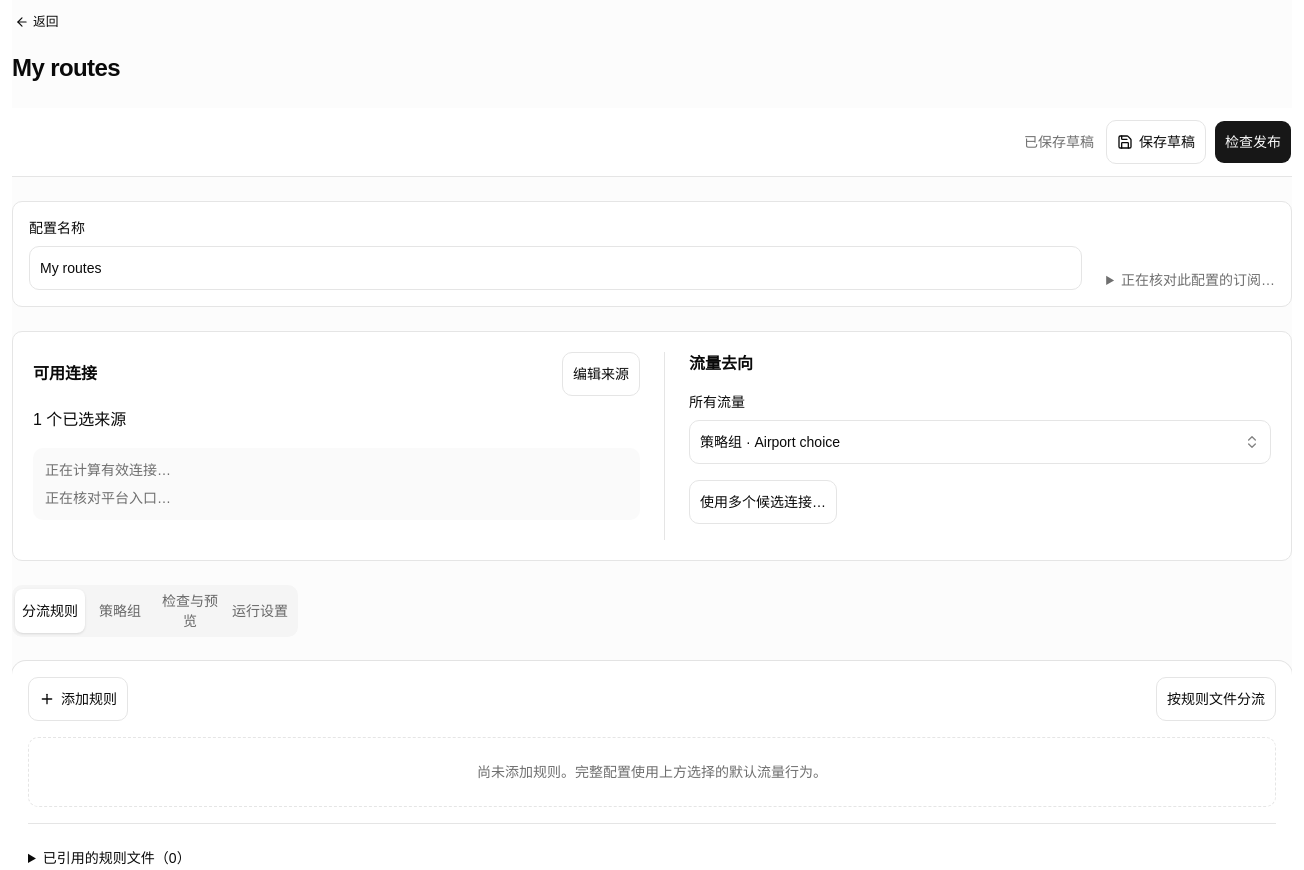
Test: clearing the last condition keeps automatic membership enabled rather than silently removing members
The image size is (1304, 870).
Step 1. Press the mouse on the tab "策略组" → (120, 611), box 85,589 -> 155,633
(page scrolled)
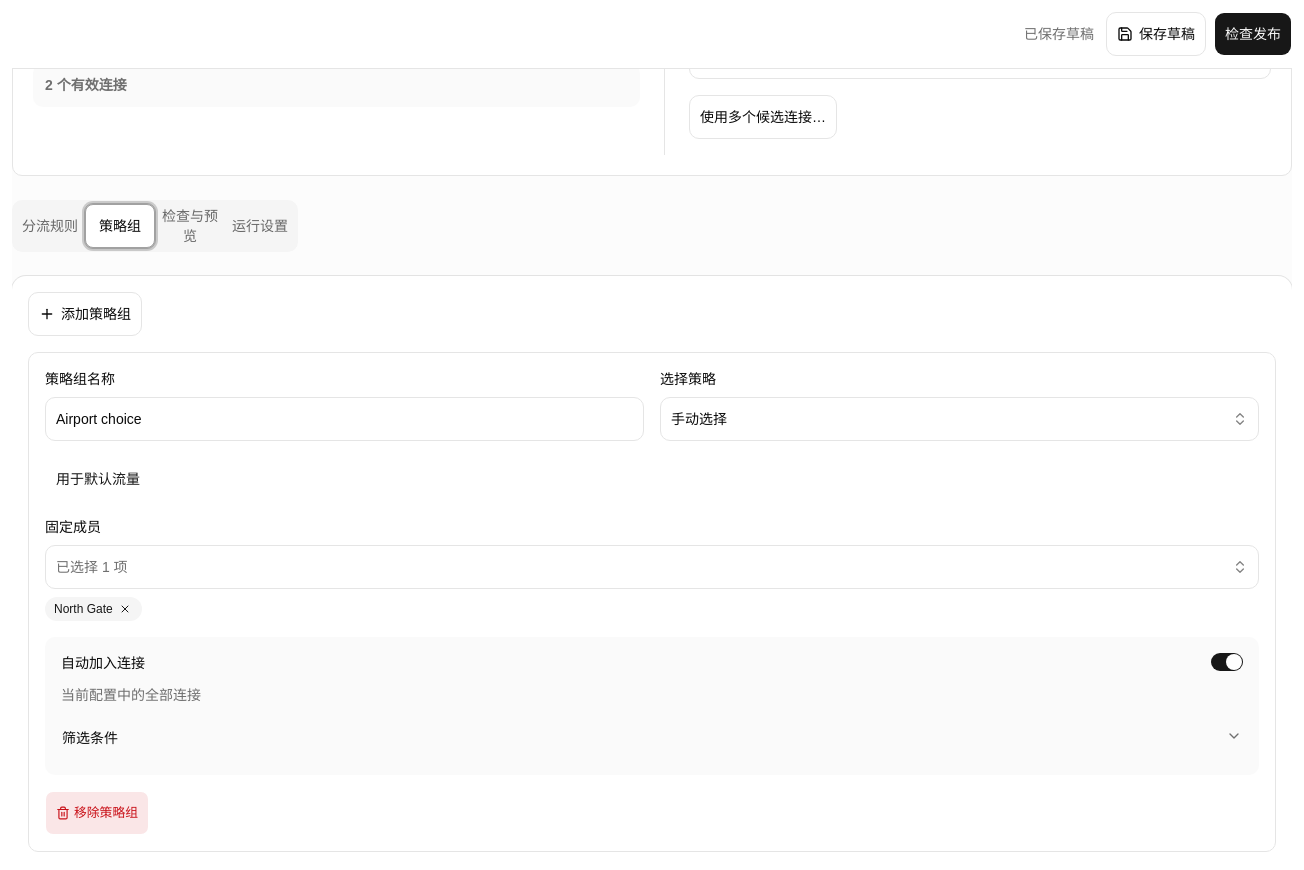
Now the text "2 个有效连接" is shown, box 45,77 -> 127,93
Step 2. Click the button "筛选条件" → click(90, 738), box 61,717 -> 1243,759
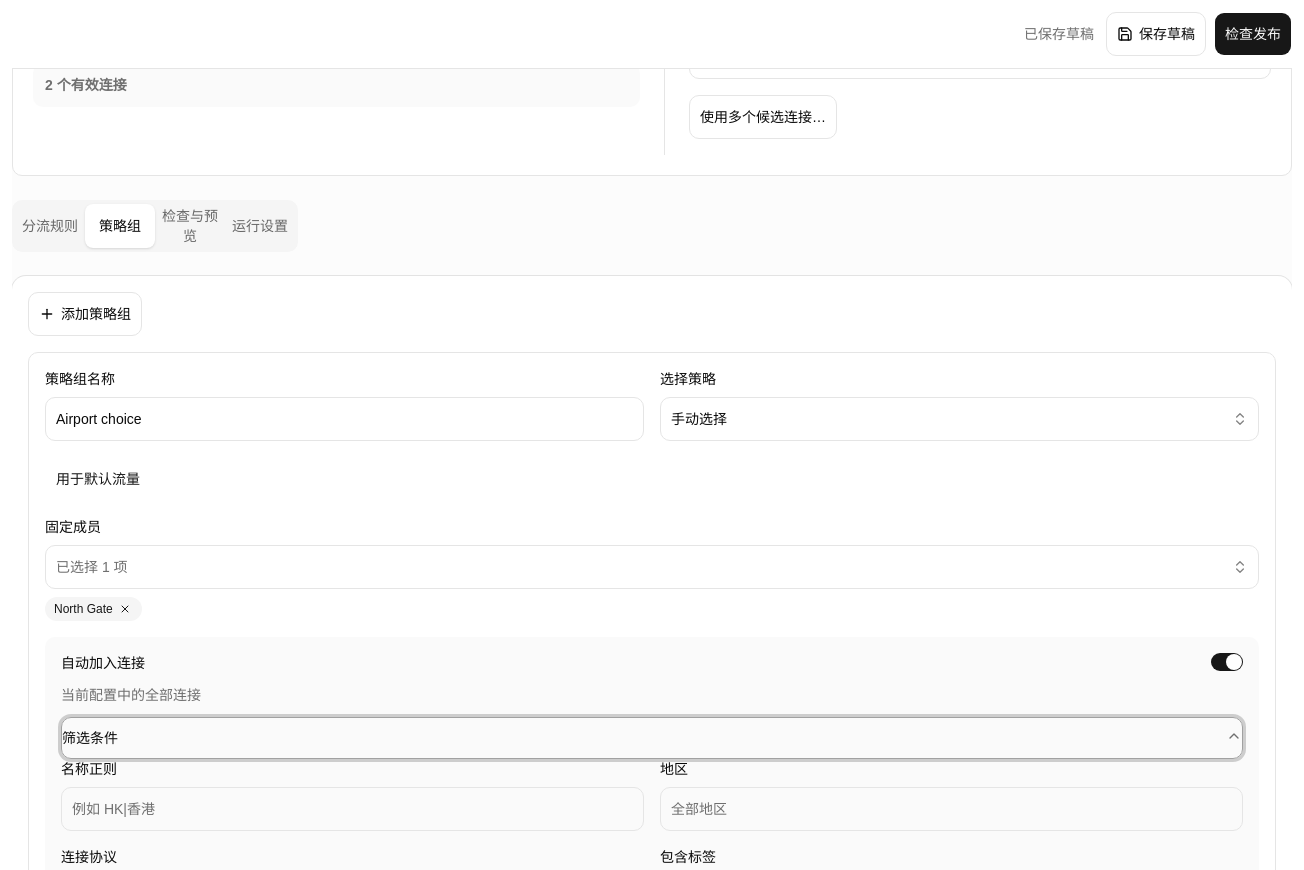
Step 3. Type "HK" into the field labelled "地区" → (952, 809), box 660,787 -> 1243,831
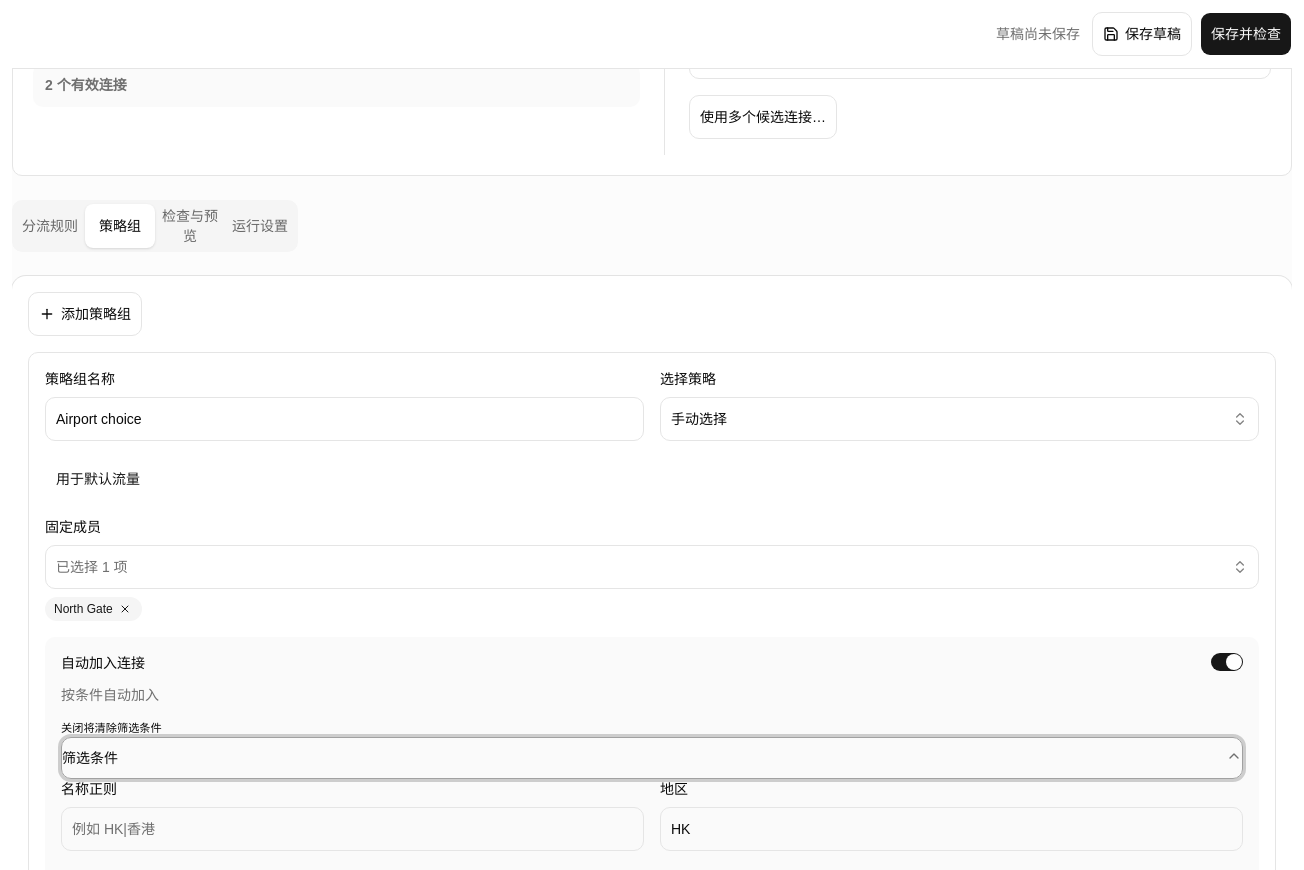
Step 4. Clear the field labelled "地区" → (952, 829), box 660,807 -> 1243,851
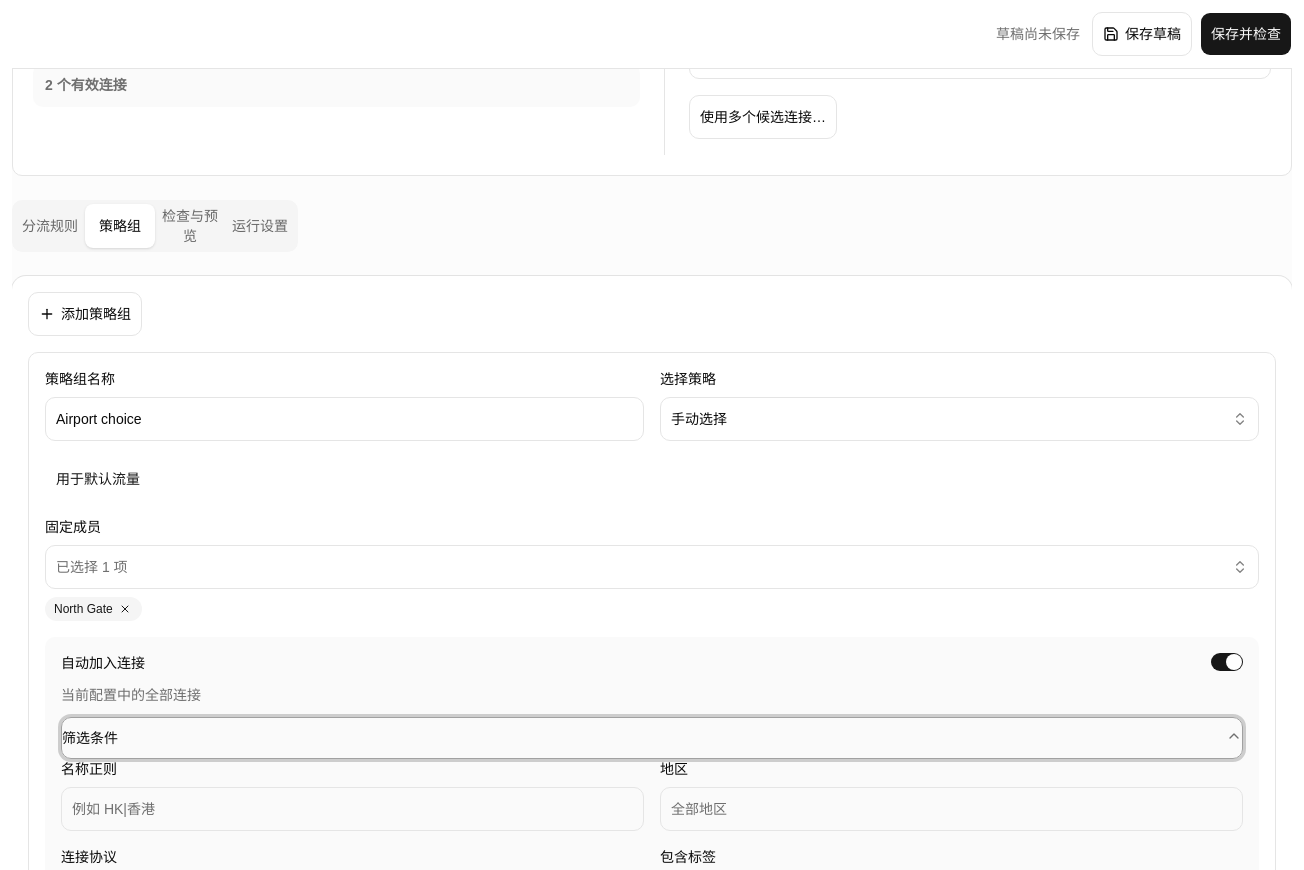
Step 5. Click the button "保存草稿" → click(1142, 34), box 1092,12 -> 1192,56
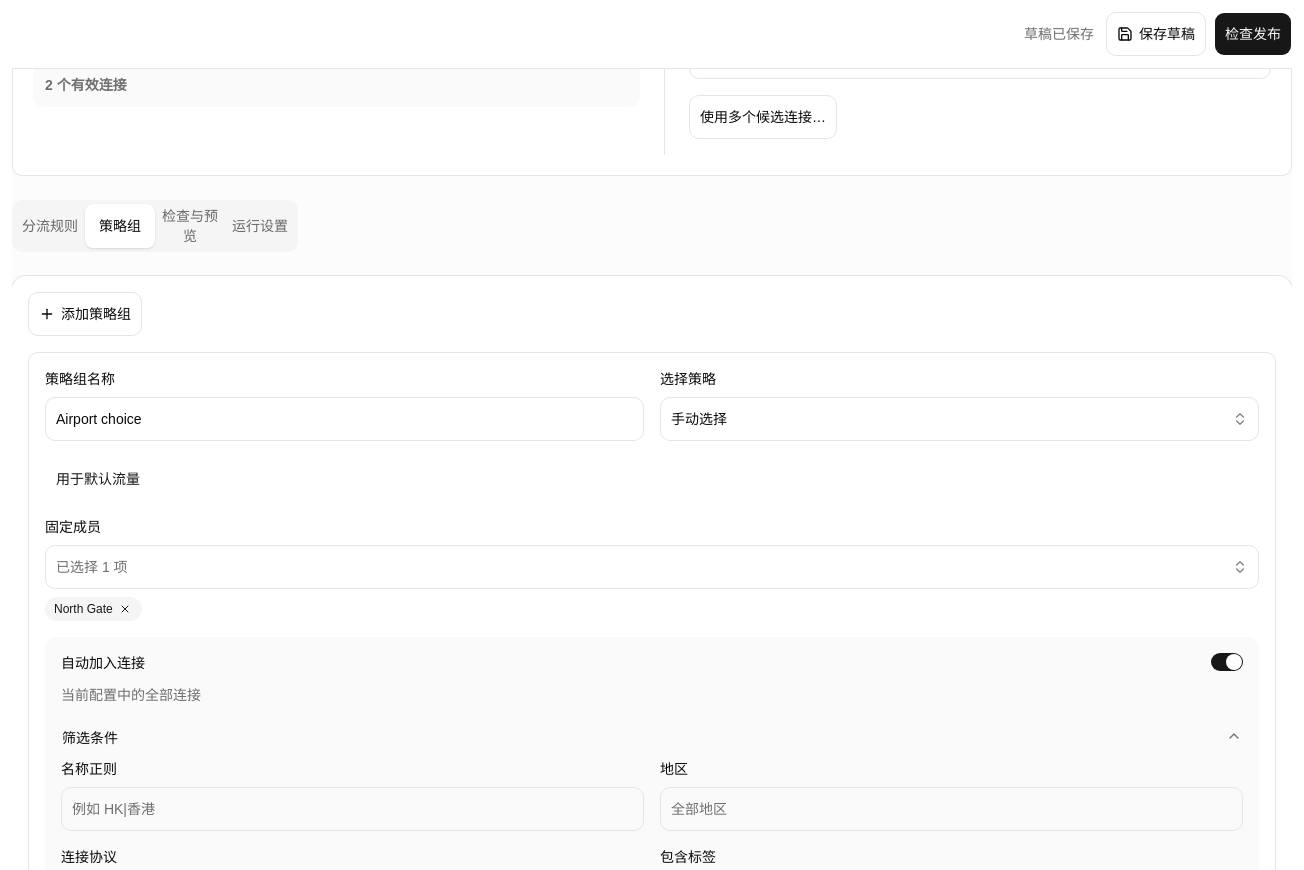
Now the text "草稿已保存" is shown, box 1024,24 -> 1094,44
